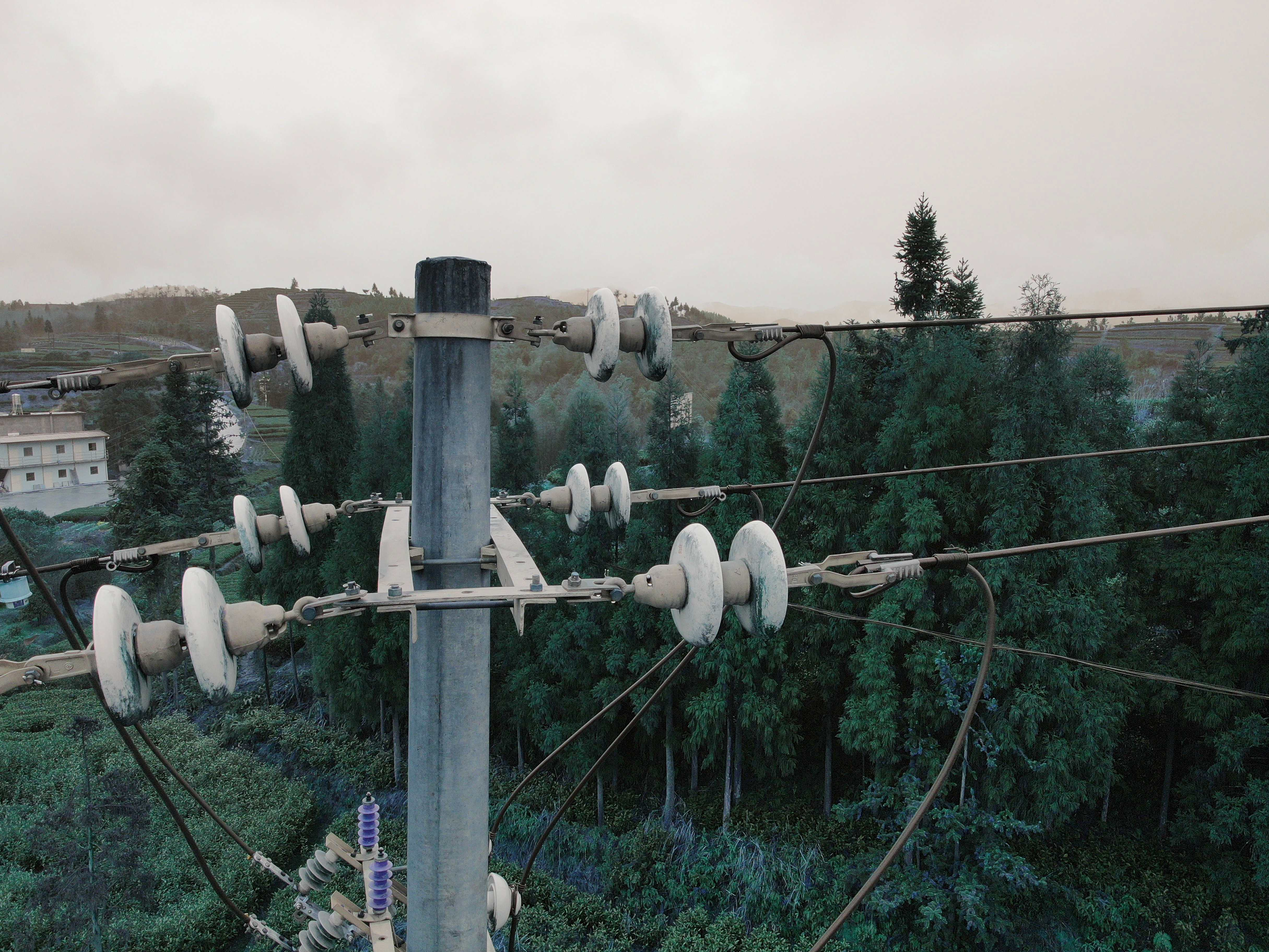severe_soiling_no_discharge_whole: (86, 556, 292, 728), (630, 513, 793, 645), (209, 294, 344, 404), (558, 284, 673, 386), (227, 480, 341, 573), (541, 460, 638, 538)
